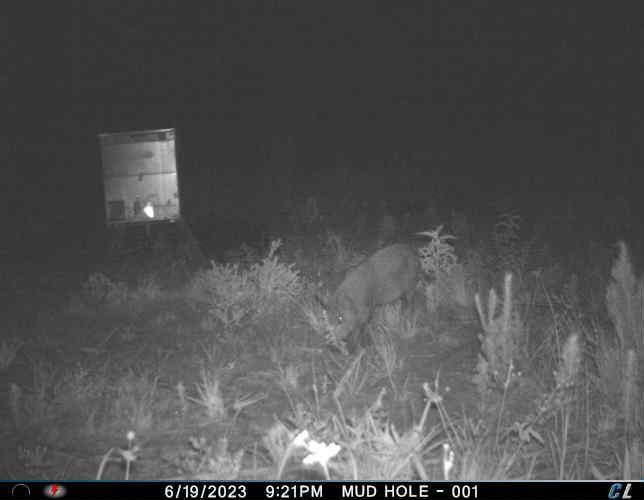Hog: (314, 240, 428, 350)
